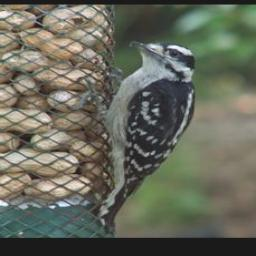Woodpecker: (74, 37, 211, 232)
